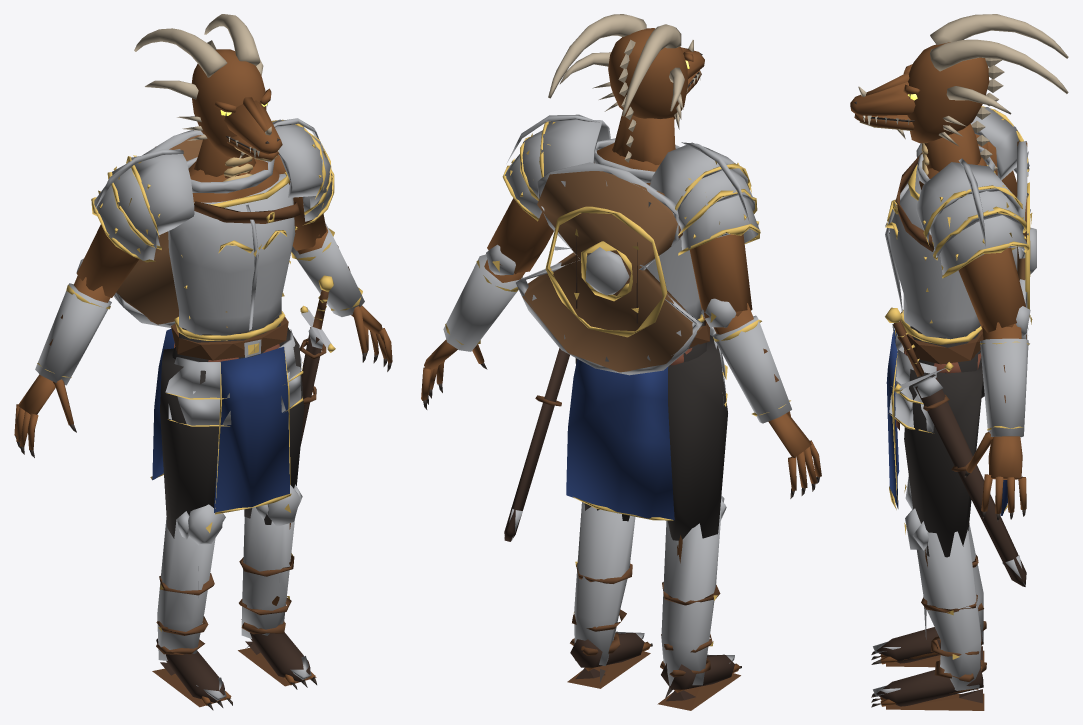
The model's file is hero_10.glb.
3 views of the same model, side by side, from view 1: azimuth 30°, elevation 25°; view 2: azimuth 150°, elevation 25°; view 3: azimuth 270°, elevation 25° (orthographic). The views are drawn at different scales.
Visible parts, largest first — view 1: hero_10__OW_Armor_KnightPlate_01_Chest_d, hero_10__OW_Armor_KnightPlate_01_Legs_d, hero_10__OW_Armor_KnightPlate_01_Shoulders_d, hero_10__OW_Char_Dragonborn_01_Body_Head_d, hero_10__OW_Armor_KnightPlate_01_Arms_d, hero_10__OW_Armor_KnightPlate_01_Feet_d, hero_10__OW_Armor_KnightPlate_01_Back_d, hero_10__OW_Char_Dragonborn_01_Body_Arms_d, hero_10__OW_Char_Dragonborn_01_Body_Hands_d, hero_10__OW_Armor_KnightPlate_01_Weapon_Hip_d, hero_10__OW_Char_Dragonborn_01_Body_Torso_d; view 2: hero_10__OW_Armor_KnightPlate_01_Back_d, hero_10__OW_Armor_KnightPlate_01_Legs_d, hero_10__OW_Armor_KnightPlate_01_Chest_d, hero_10__OW_Armor_KnightPlate_01_Shoulders_d, hero_10__OW_Char_Dragonborn_01_Body_Head_d, hero_10__OW_Armor_KnightPlate_01_Arms_d, hero_10__OW_Char_Dragonborn_01_Body_Arms_d, hero_10__OW_Armor_KnightPlate_01_Feet_d, hero_10__OW_Char_Dragonborn_01_Body_Hands_d, hero_10__OW_Armor_KnightPlate_01_Weapon_Hip_d, hero_10__OW_Char_Dragonborn_01_Body_Torso_d; view 3: hero_10__OW_Armor_KnightPlate_01_Legs_d, hero_10__OW_Char_Dragonborn_01_Body_Head_d, hero_10__OW_Armor_KnightPlate_01_Chest_d, hero_10__OW_Armor_KnightPlate_01_Shoulders_d, hero_10__OW_Armor_KnightPlate_01_Weapon_Hip_d, hero_10__OW_Armor_KnightPlate_01_Feet_d, hero_10__OW_Armor_KnightPlate_01_Arms_d, hero_10__OW_Char_Dragonborn_01_Body_Arms_d, hero_10__OW_Char_Dragonborn_01_Body_Hands_d, hero_10__OW_Armor_KnightPlate_01_Back_d, hero_10__OW_Char_Dragonborn_01_Body_Feet_d.
Part boxes in pixels (left/top/right/bottom): hero_10__OW_Armor_KnightPlate_01_Chest_d: left=150, top=157, right=300, bottom=514; hero_10__OW_Armor_KnightPlate_01_Legs_d: left=156, top=315, right=303, bottom=660; hero_10__OW_Armor_KnightPlate_01_Shoulders_d: left=91, top=118, right=334, bottom=262; hero_10__OW_Char_Dragonborn_01_Body_Head_d: left=134, top=14, right=282, bottom=181; hero_10__OW_Armor_KnightPlate_01_Arms_d: left=35, top=223, right=364, bottom=385; hero_10__OW_Armor_KnightPlate_01_Feet_d: left=152, top=619, right=316, bottom=707; hero_10__OW_Armor_KnightPlate_01_Back_d: left=114, top=130, right=203, bottom=327; hero_10__OW_Char_Dragonborn_01_Body_Arms_d: left=74, top=154, right=359, bottom=306; hero_10__OW_Char_Dragonborn_01_Body_Hands_d: left=14, top=305, right=392, bottom=457; hero_10__OW_Armor_KnightPlate_01_Weapon_Hip_d: left=299, top=275, right=335, bottom=445; hero_10__OW_Char_Dragonborn_01_Body_Torso_d: left=188, top=158, right=279, bottom=340; hero_10__OW_Armor_KnightPlate_01_Back_d: left=516, top=162, right=702, bottom=375; hero_10__OW_Armor_KnightPlate_01_Legs_d: left=572, top=315, right=727, bottom=685; hero_10__OW_Armor_KnightPlate_01_Chest_d: left=566, top=138, right=709, bottom=520; hero_10__OW_Armor_KnightPlate_01_Shoulders_d: left=502, top=114, right=760, bottom=255; hero_10__OW_Char_Dragonborn_01_Body_Head_d: left=548, top=14, right=704, bottom=168; hero_10__OW_Armor_KnightPlate_01_Arms_d: left=443, top=244, right=791, bottom=423; hero_10__OW_Char_Dragonborn_01_Body_Arms_d: left=484, top=198, right=753, bottom=334; hero_10__OW_Armor_KnightPlate_01_Feet_d: left=567, top=631, right=740, bottom=710; hero_10__OW_Char_Dragonborn_01_Body_Hands_d: left=421, top=339, right=821, bottom=498; hero_10__OW_Armor_KnightPlate_01_Weapon_Hip_d: left=504, top=348, right=569, bottom=541; hero_10__OW_Char_Dragonborn_01_Body_Torso_d: left=594, top=143, right=675, bottom=185; hero_10__OW_Armor_KnightPlate_01_Legs_d: left=888, top=326, right=984, bottom=690; hero_10__OW_Char_Dragonborn_01_Body_Head_d: left=850, top=14, right=1068, bottom=175; hero_10__OW_Armor_KnightPlate_01_Chest_d: left=885, top=145, right=1007, bottom=515; hero_10__OW_Armor_KnightPlate_01_Shoulders_d: left=916, top=106, right=1029, bottom=278; hero_10__OW_Armor_KnightPlate_01_Weapon_Hip_d: left=885, top=307, right=1026, bottom=586; hero_10__OW_Armor_KnightPlate_01_Feet_d: left=873, top=621, right=986, bottom=710; hero_10__OW_Armor_KnightPlate_01_Arms_d: left=980, top=209, right=1032, bottom=437; hero_10__OW_Char_Dragonborn_01_Body_Arms_d: left=958, top=134, right=1026, bottom=435; hero_10__OW_Char_Dragonborn_01_Body_Hands_d: left=964, top=432, right=1026, bottom=521; hero_10__OW_Armor_KnightPlate_01_Back_d: left=1017, top=141, right=1036, bottom=345; hero_10__OW_Char_Dragonborn_01_Body_Feet_d: left=871, top=651, right=982, bottom=707.
Bounding box in the file's own units: 1.16 × 1.9 × 0.5772.
